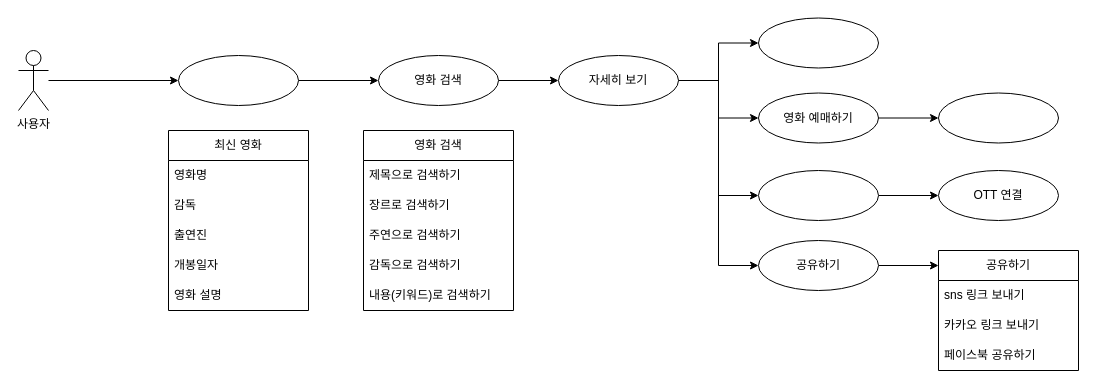
Image size: 1096x388. Some labels were removed from this diagram. The shapes that lost their labels are listed below. From the top down, each one's centre as x and y in pixels, then its label:
At (818,42): "영화평 남기기".
At (238,80): "시작 화면".
At (998,117): "제휴 영화관 링크".
At (818,195): "OTT 링크 바로가기".
